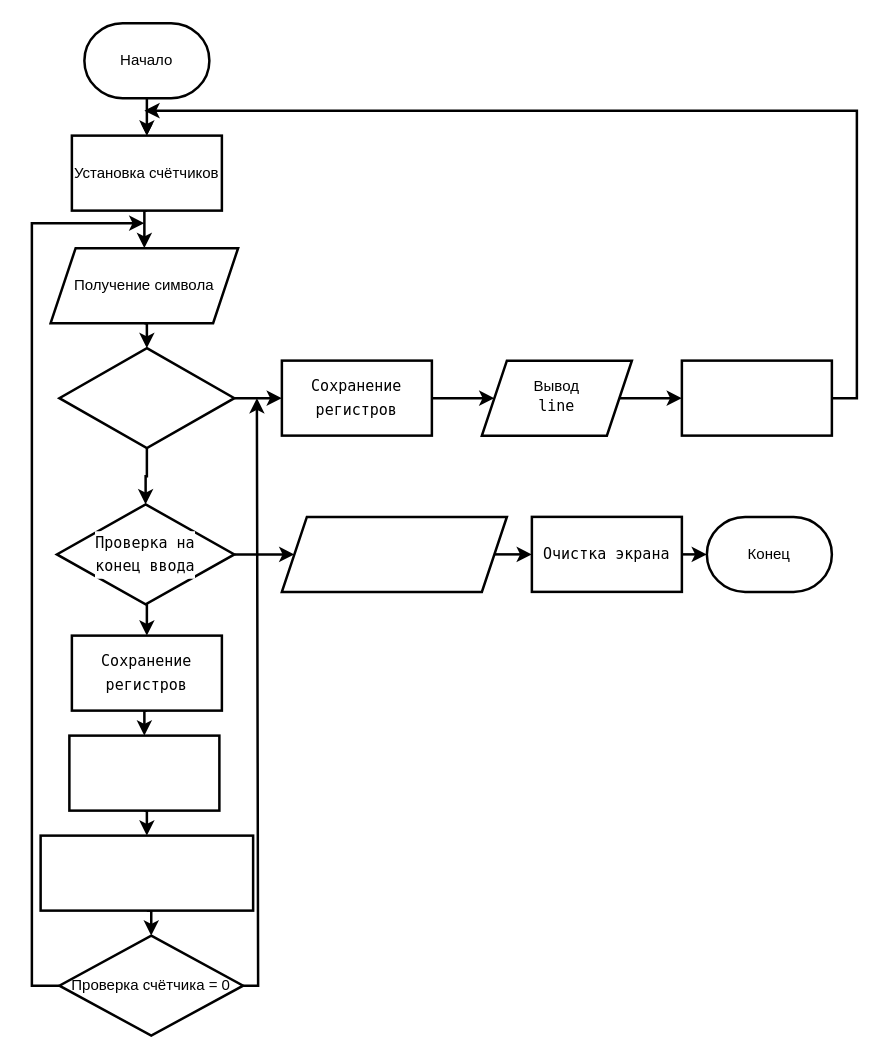
Image size: 889x1058. Some labels were removed from this diagram. The centre of each missing label's shape, as x and y in pixels:
Вывод сообщения о завершении программы: point 394,553
Очистка line: point 756,397
Перевод символа в шестнадцатеричный эквивалент: point 146,872
Проверка на конец строки: point 146,397
Сдвиг: point 144,772
